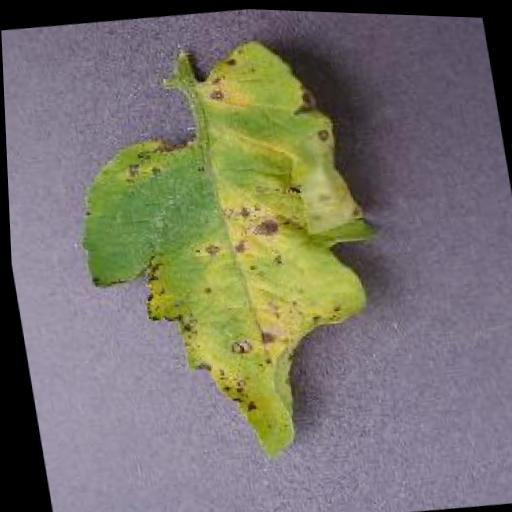Septoria: (51, 16, 413, 481)
